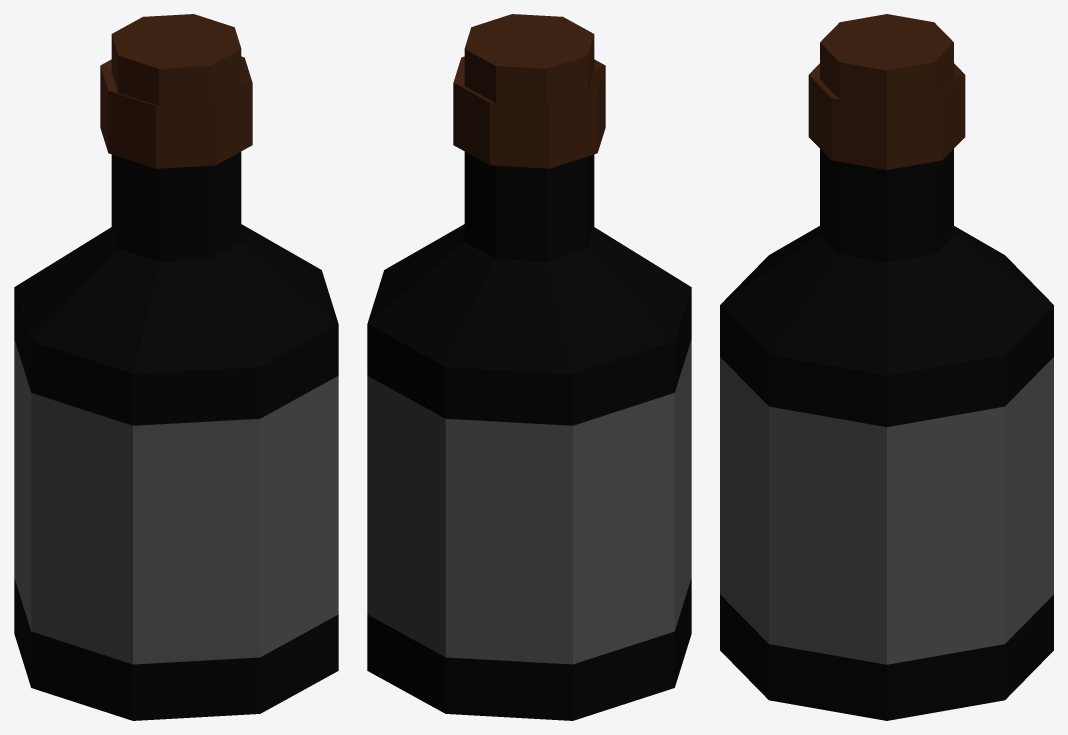
The model's file is bottle of rum.fbx.
3 renders of one model, left to right at view 1: azimuth 30°, elevation 25°; view 2: azimuth 150°, elevation 25°; view 3: azimuth 270°, elevation 25°, orthographic.
Visible parts, largest first — view 1: Цилиндр.001; view 2: Цилиндр.001; view 3: Цилиндр.001.
Boxes of the visible parts, box(x1,y1,x2,y2) form: Цилиндр.001: box(14, 14, 338, 720); Цилиндр.001: box(367, 14, 691, 720); Цилиндр.001: box(720, 14, 1053, 720).
Size of the model in its own units: 9.13 by 18.35 by 9.13.
